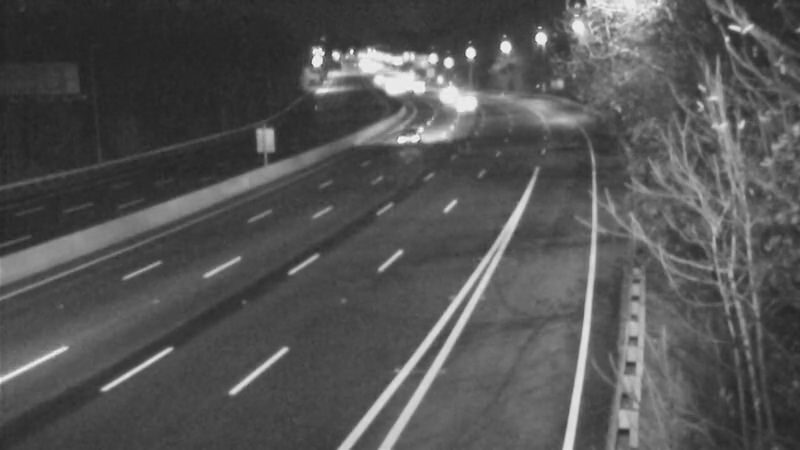vehicle: (417, 65, 467, 115), (442, 75, 492, 125), (383, 112, 433, 162)
